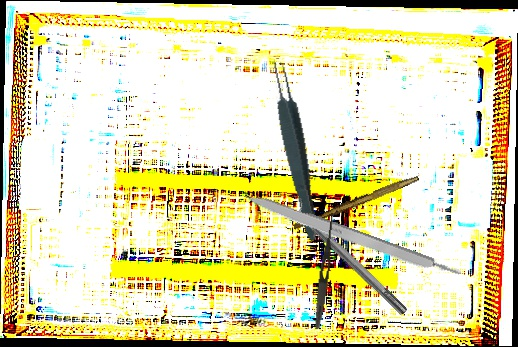Dressing Forceps: (312, 212, 337, 330)
Fixation Ring: (279, 192, 414, 323)
Scalpel Handle: (241, 190, 463, 284), (292, 171, 420, 233)
Tissue Forceps: (267, 56, 325, 243)
